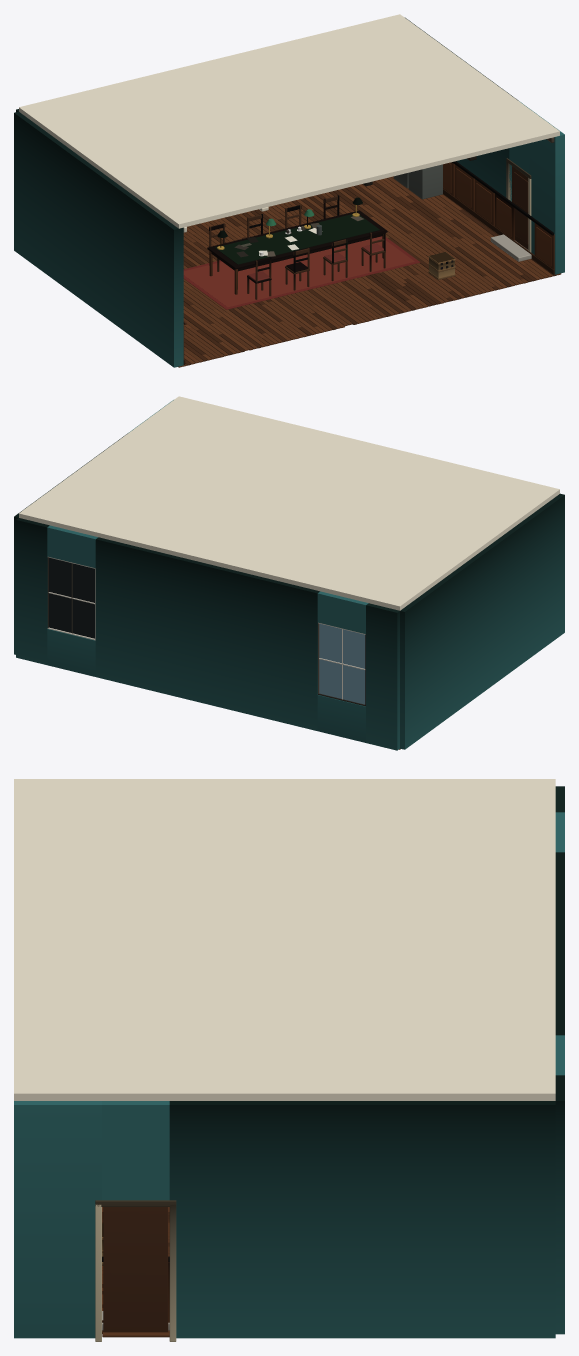
File: war.glb
3 views of the same model, one above another, from view 1: azimuth 30°, elevation 25°; view 2: azimuth 150°, elevation 25°; view 3: azimuth 270°, elevation 25° (orthographic). The views are drawn at different scales.
Parts seen in each view (by area): view 1: war.plaster.28, war.plaster.9, war.plank.0, war.plank.1, war.fabric.27, war.fabric.17, war.plank.18, war.plank.12, war.plank.11, war.plank.10, war.paint.30, war.paint.5 (+7 smaller); view 2: war.plaster.9, war.plaster.28, war.glass.2, war.paint.3; view 3: war.plaster.28, war.plaster.9, war.paint.5, war.paint.7.
Part boxes in pixels (x1=…): war.plaster.28: x1=19, y1=14, x2=559, y2=228; war.plaster.9: x1=14, y1=17, x2=564, y2=367; war.plank.0: x1=178, y1=176, x2=561, y2=367; war.plank.1: x1=183, y1=181, x2=556, y2=365; war.fabric.27: x1=183, y1=236, x2=414, y2=307; war.fabric.17: x1=215, y1=214, x2=379, y2=264; war.plank.18: x1=209, y1=195, x2=385, y2=299; war.plank.12: x1=183, y1=161, x2=553, y2=324; war.plank.11: x1=443, y1=163, x2=551, y2=266; war.plank.10: x1=183, y1=162, x2=554, y2=359; war.paint.30: x1=393, y1=164, x2=442, y2=199; war.paint.5: x1=512, y1=166, x2=528, y2=249; war.plaster.9: x1=14, y1=400, x2=564, y2=750; war.plaster.28: x1=19, y1=396, x2=559, y2=610; war.glass.2: x1=49, y1=557, x2=365, y2=704; war.paint.3: x1=47, y1=556, x2=365, y2=706; war.plaster.28: x1=14, y1=779, x2=555, y2=1100; war.plaster.9: x1=14, y1=786, x2=564, y2=1338; war.paint.5: x1=103, y1=1207, x2=168, y2=1332; war.paint.7: x1=95, y1=1200, x2=176, y2=1341.
Bounding box in the file's own units: 11.31 × 3.97 × 8.14.
